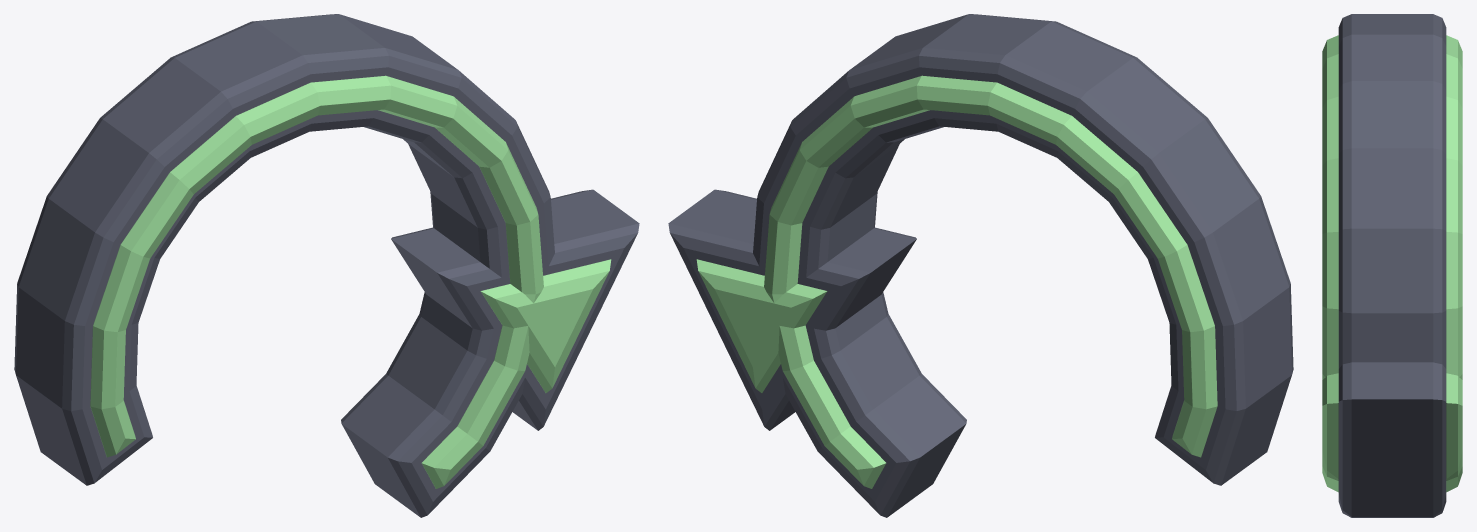
Rendered from game-ui-icon-library-arrow-ring-9ea268a8__19041.glb.
3 views of the same model, side by side, from view 1: azimuth 30°, elevation 25°; view 2: azimuth 150°, elevation 25°; view 3: azimuth 270°, elevation 25° (orthographic). The views are drawn at different scales.
Visible parts, largest first — view 1: arrow-ring; view 2: arrow-ring; view 3: arrow-ring.
Boxes of the visible parts, x1,y1,x2,y2 form: arrow-ring: [14, 14, 639, 517]; arrow-ring: [668, 14, 1293, 517]; arrow-ring: [1322, 14, 1462, 517].
Size of the model in its own units: 0.98 by 0.7972 by 0.2342.
